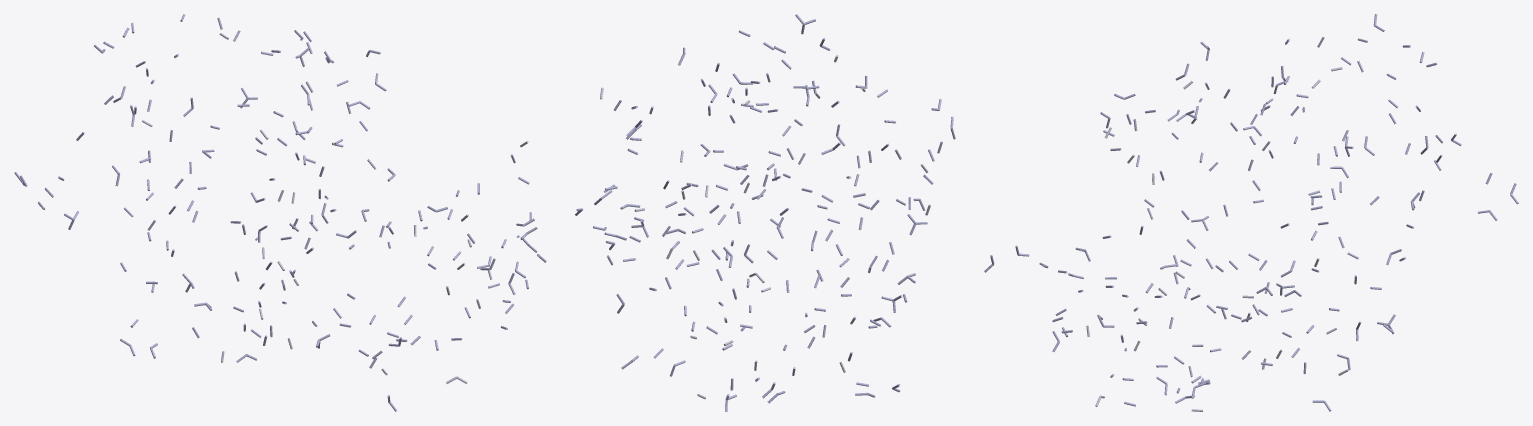
The model's file is 1lyz__sticks__b-factor__H.glb.
The picture shows the model from 3 angles, left to right: view 1: azimuth 30°, elevation 25°; view 2: azimuth 150°, elevation 25°; view 3: azimuth 270°, elevation 25°; orthographic projection. The views are drawn at different scales.
Visible parts, largest first — view 1: Renderer Node; view 2: Renderer Node; view 3: Renderer Node.
Part boxes in pixels (box(x1,y1,x2,y2)): Renderer Node: box(14, 14, 546, 411); Renderer Node: box(575, 14, 955, 411); Renderer Node: box(984, 14, 1518, 411).
Bounding box in the file's own units: 37.99 × 31.25 × 45.6.
